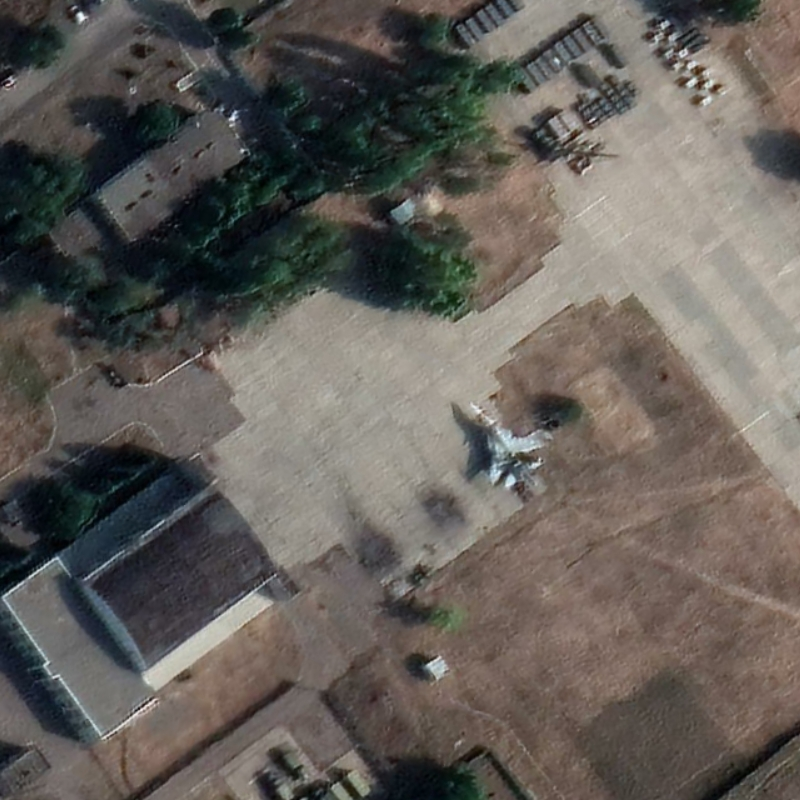A19: (464, 396, 548, 496)
